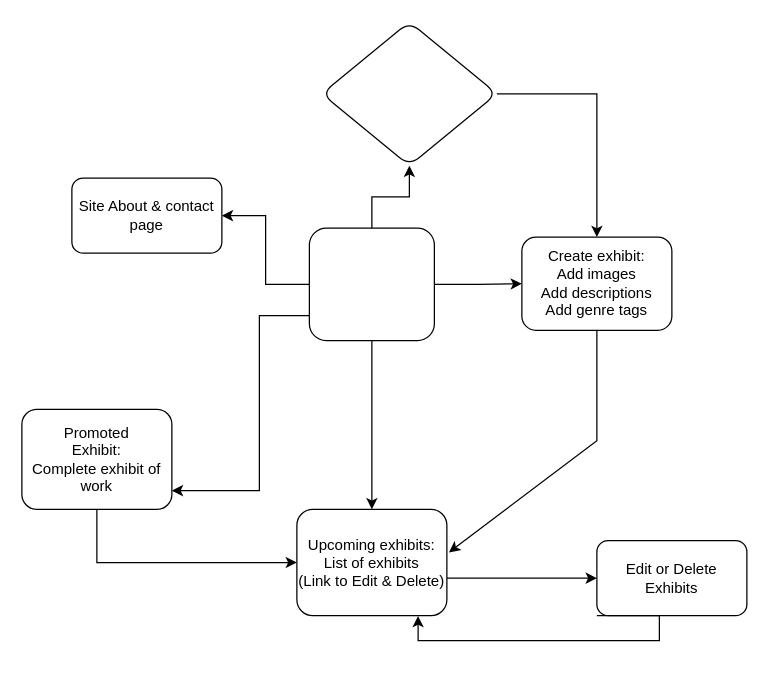
Some shapes in this 769 by 673 pixel diagram are drawn without their labels. Here are the shapes that lost their labels. From the top down, the box of each, then its label:
(321, 21, 497, 166): Concept: User accounts creation
(308, 227, 434, 341): Homepage: exhibits (teaser of current)
